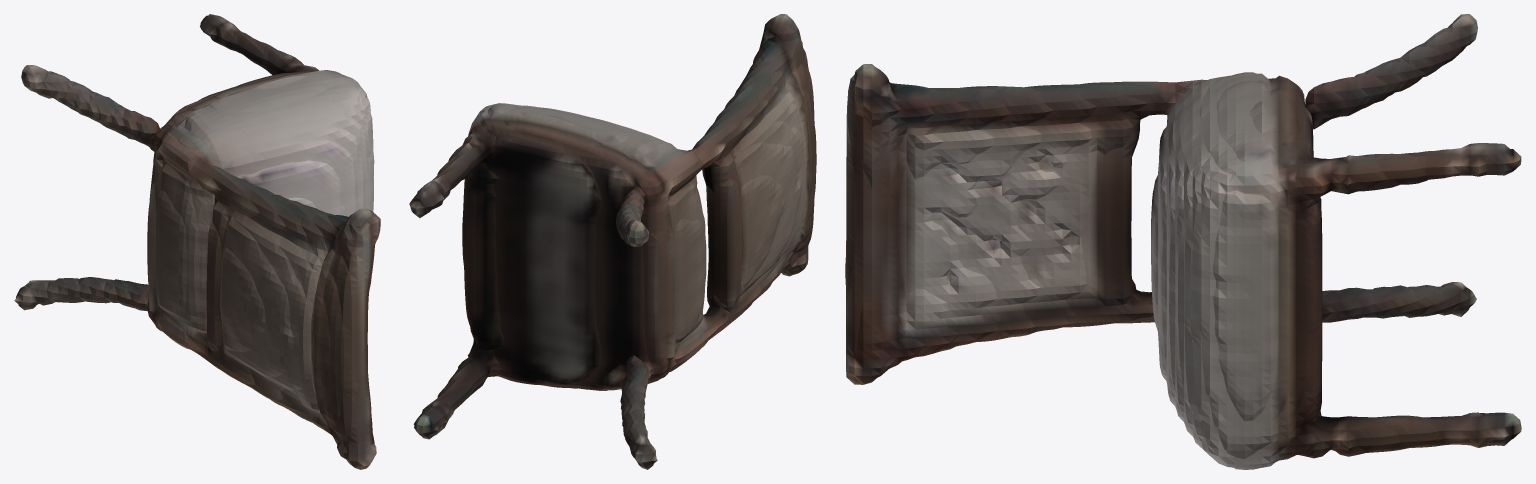
The picture shows the model from 3 angles, left to right: view 1: azimuth 30°, elevation 25°; view 2: azimuth 150°, elevation 25°; view 3: azimuth 270°, elevation 25°; orthographic projection. The views are drawn at different scales.
Size of the model in its own units: 0.6104 by 0.5727 by 1.07.
